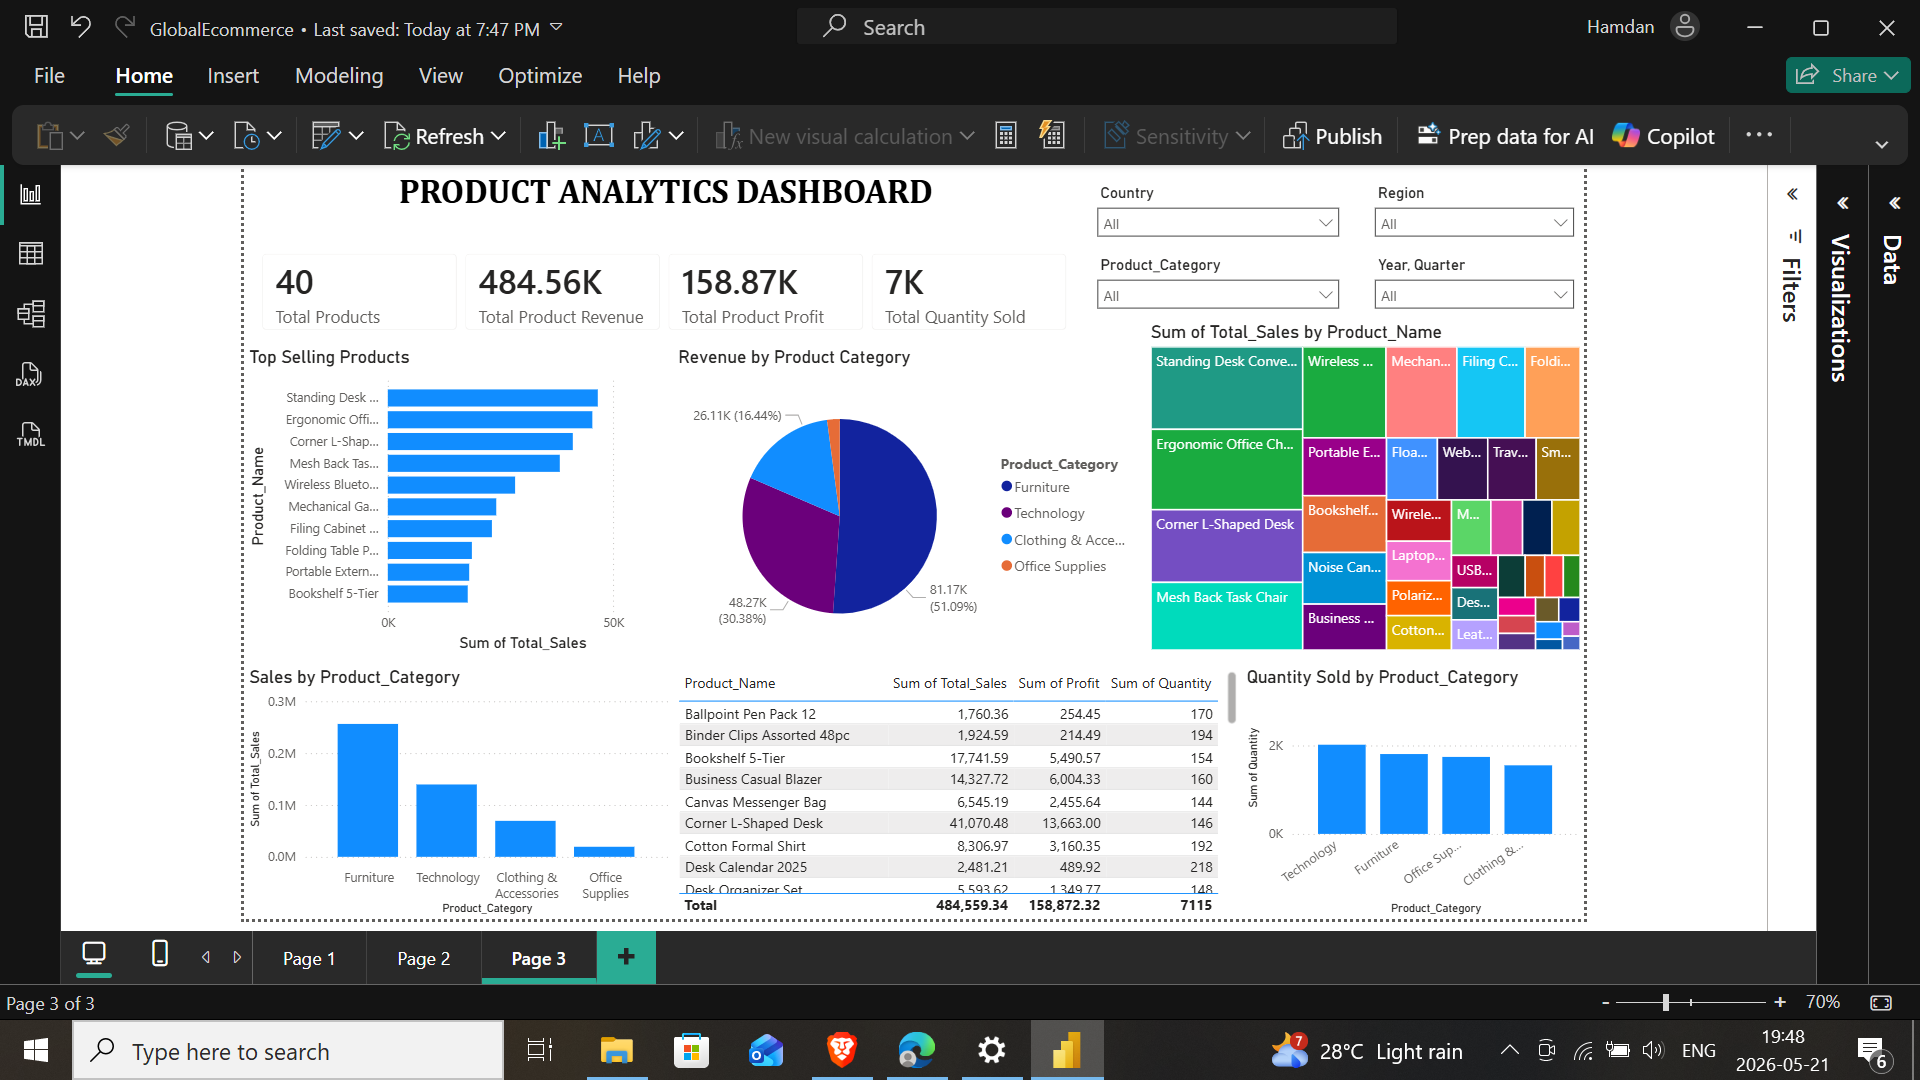

The page's visual inventory and layout, read from the dashboard file:
{"tool":"powerbi","page":{"name":"Product Analytics","canvas":[1280,720],"ordinal":2},"visuals":[{"type":"cardVisual","fields":{"Data":["Global_sales.Total Products","Global_sales.Total Product Revenue","Global_sales.Total Product Profit","Global_sales.Total Quantity Sold"]},"box":[0,66.7,805.1,107.4],"z":0},{"type":"barChart","title":"Top Selling Products","fields":{"Category":["Global_sales.Product_Name"],"Y":["Sum(Global_sales.Total_Sales)"]},"box":[0,173.9,410.1,294.8],"z":1000},{"type":"columnChart","title":"Sales by Product_Category","fields":{"Category":["Global_sales.Product_Category"],"Y":["Sum(Global_sales.Total_Sales)"]},"box":[0,478.1,410.1,241.9],"z":2000},{"type":"pieChart","title":"Revenue by Product Category","fields":{"Category":["Global_sales.Product_Category"],"Y":["Global_sales.Total Product Profit"]},"box":[410.1,173.9,449.8,304.3],"z":3000},{"type":"treemap","fields":{"Group":["Global_sales.Product_Name"],"Values":["Sum(Global_sales.Total_Sales)"]},"box":[860.4,149.6,419.6,318.8],"z":4000},{"type":"tableEx","fields":{"Values":["Global_sales.Product_Name","Sum(Global_sales.Total_Sales)","Sum(Global_sales.Profit)","Sum(Global_sales.Quantity)"]},"box":[409.9,478.2,543.3,242.4],"z":5000},{"type":"columnChart","title":"Quantity Sold by Product_Category","fields":{"Category":["Global_sales.Product_Category"],"Y":["Sum(Global_sales.Quantity)"]},"box":[953,478,327,242],"z":6000},{"type":"slicer","fields":{"Values":["Global_sales.Country"]},"box":[805.1,13,250.5,68.3],"z":7000},{"type":"slicer","fields":{"Values":["Global_sales.Product_Category"]},"box":[805.1,81.3,250.5,68.3],"z":8000},{"type":"slicer","fields":{"Values":["Global_sales.Order_Date.Variation.Date Hierarchy.Year","Global_sales.Order_Date.Variation.Date Hierarchy.Quarter"]},"box":[1070.3,81.3,209.8,68.3],"z":9000},{"type":"slicer","fields":{"Values":["Global_sales.Region"]},"box":[1070.3,13,209.8,68.3],"z":10000},{"type":"textbox","box":[0,0,805.1,66.7],"z":11000}]}

Visuals, with their boxes on the page's 1280x720 design canvas (x1, y1, x2, y2). These are canvas units, not pixel positions in the 1920x1080 screenshot, which may show the page scaled, cropped or inside an application window:
cardVisual - Global_sales.Total Products x Global_sales.Total Product Revenue: crop(0, 67, 805, 174)
"Top Selling Products" barChart: crop(0, 174, 410, 469)
"Sales by Product_Category" columnChart: crop(0, 478, 410, 720)
"Revenue by Product Category" pieChart: crop(410, 174, 860, 478)
treemap - Global_sales.Product_Name x Sum(Global_sales.Total_Sales): crop(860, 150, 1280, 468)
tableEx - Global_sales.Product_Name x Sum(Global_sales.Total_Sales): crop(410, 478, 953, 721)
"Quantity Sold by Product_Category" columnChart: crop(953, 478, 1280, 720)
slicer - Global_sales.Country: crop(805, 13, 1056, 81)
slicer - Global_sales.Product_Category: crop(805, 81, 1056, 150)
slicer - Global_sales.Order_Date.Variation.Date Hierarchy.Year x Global_sales.Order_Date.Variation.Date Hierarchy.Quarter: crop(1070, 81, 1280, 150)
slicer - Global_sales.Region: crop(1070, 13, 1280, 81)
textbox: crop(0, 0, 805, 67)
